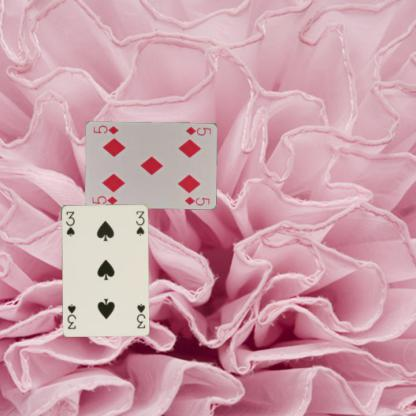3s: (63, 209, 76, 238), (134, 301, 146, 329)
5d: (90, 193, 118, 206), (183, 124, 212, 136)
